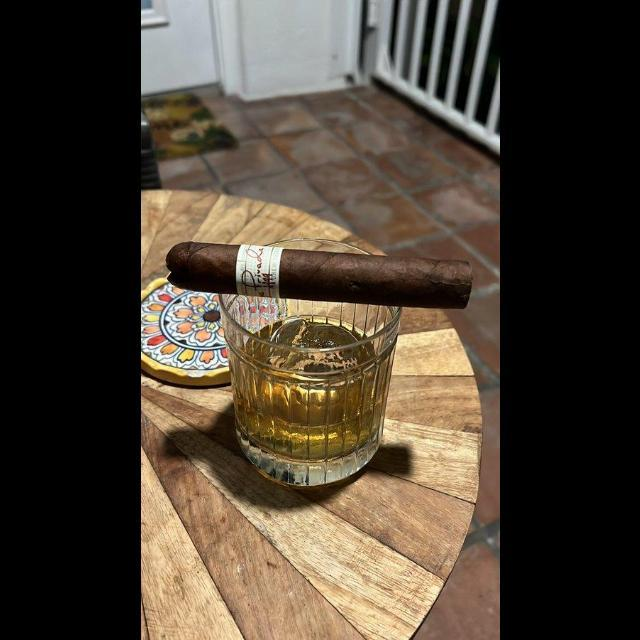rokok: (162, 234, 478, 320)
